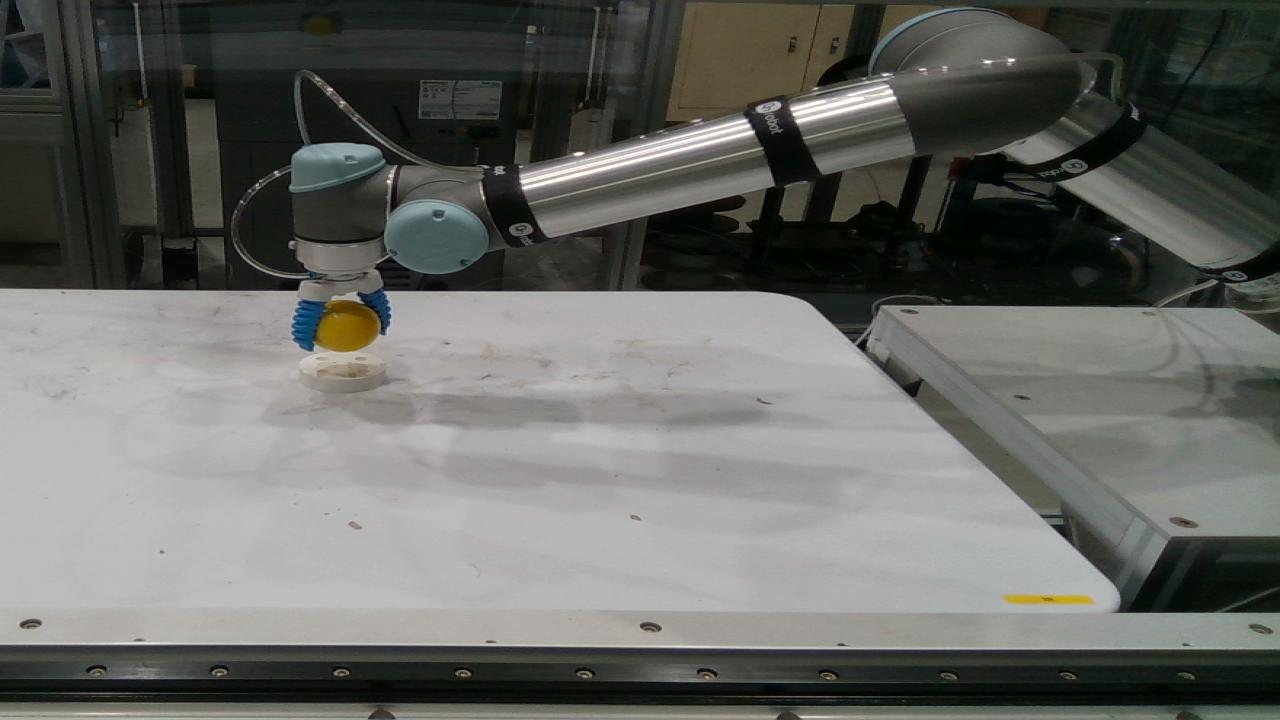UR5: (290, 7, 1279, 336)
gripper_left: (356, 288, 390, 337)
gripper_right: (293, 301, 326, 351)
target: (299, 351, 388, 394), (314, 299, 381, 353)
